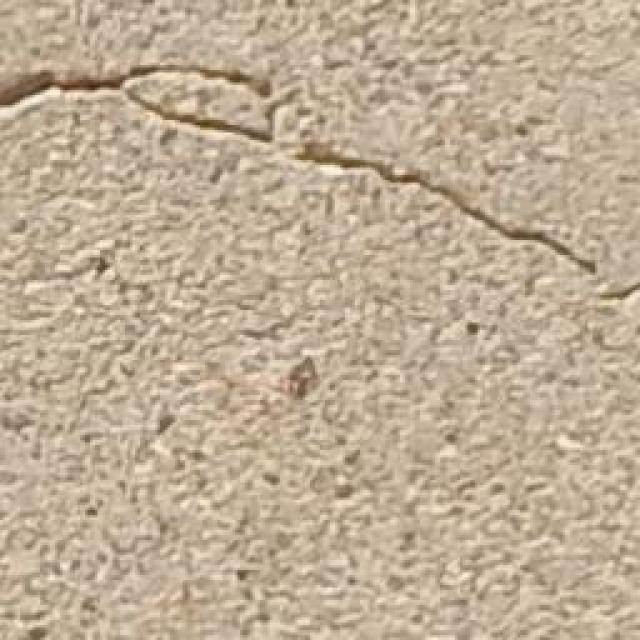concrete-crack: (1, 58, 617, 278)
